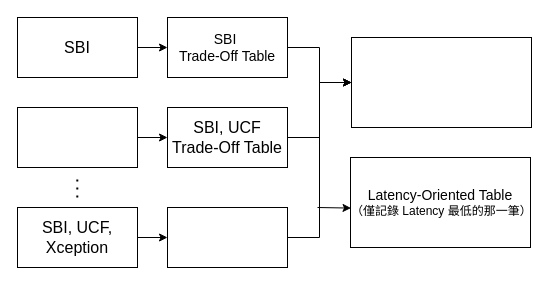
The diagram is 549 pixels wide and 285 high, and some of its shapes have lost their labels. Each missing label, with the centre of its shape:
"Accuracy-Oriented Table （僅記錄 FRR 最低的那一筆）" belongs at [441,82].
"SBI, UCF" belongs at [77,137].
"SBI, UCF, X Trade-Off Table" belongs at [227,237].
